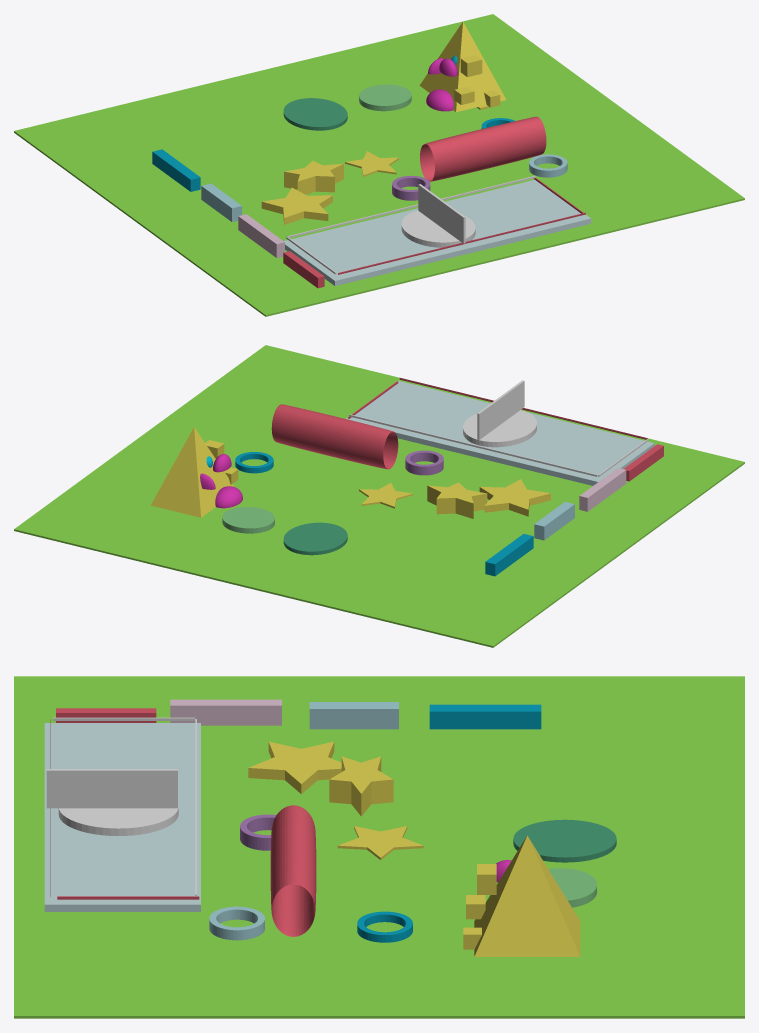
File: Mighty Elzing-Bojo (3).glb
3 renders of one model, top to bottom at view 1: azimuth 30°, elevation 25°; view 2: azimuth 150°, elevation 25°; view 3: azimuth 270°, elevation 25°, orthographic. The views are drawn at different scales.
Parts seen in each view (by area): view 1: Mesh_Mesh_head_geo.001_lambert2SG.001; view 2: Mesh_Mesh_head_geo.001_lambert2SG.001; view 3: Mesh_Mesh_head_geo.001_lambert2SG.001.
Part boxes in pixels (box(x1,y1,x2,y2)): Mesh_Mesh_head_geo.001_lambert2SG.001: box(14, 14, 744, 316); Mesh_Mesh_head_geo.001_lambert2SG.001: box(14, 345, 744, 647); Mesh_Mesh_head_geo.001_lambert2SG.001: box(14, 676, 744, 1018).
Size of the model in its own units: 288 by 49 by 262.
